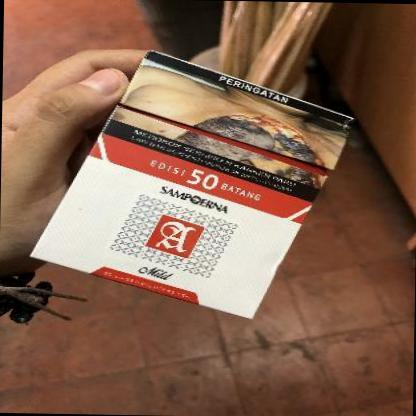objects: (29, 47, 354, 320)
